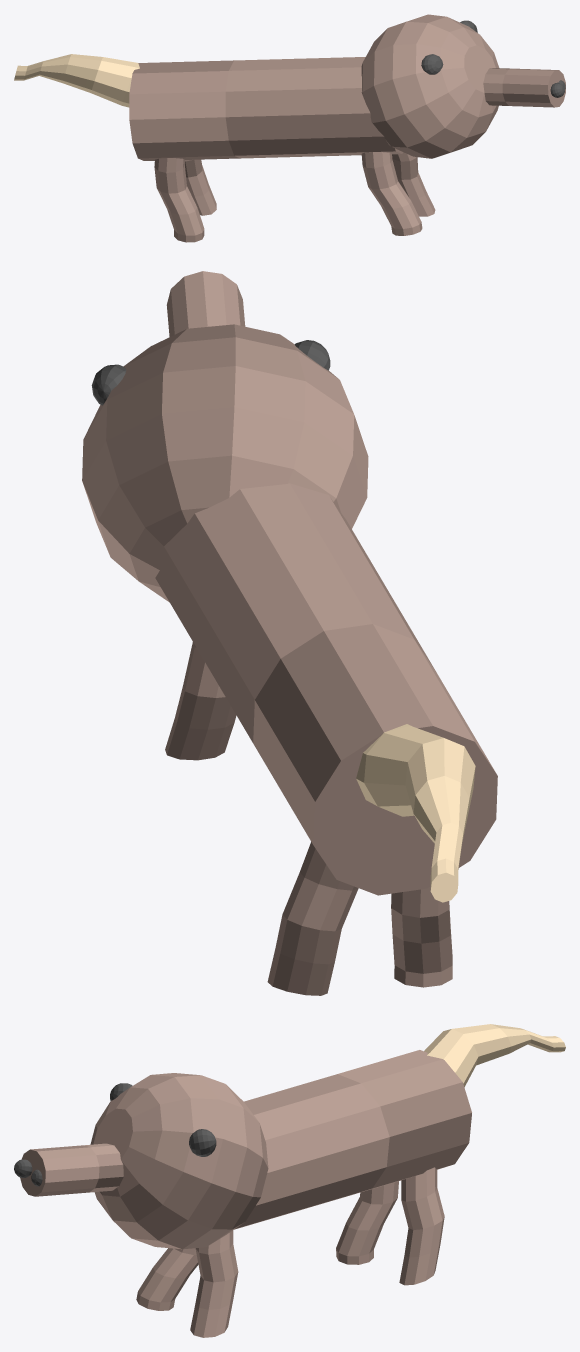
The model's file is mouse.fbx.
3 renders of one model, top to bottom at view 1: azimuth 30°, elevation 25°; view 2: azimuth 150°, elevation 25°; view 3: azimuth 270°, elevation 25°, orthographic. The views are drawn at different scales.
Visible parts, largest first — view 1: mesh633608042, mesh508835626, mesh1210358888, mesh326609196, mesh1837556272, mesh713477910, mesh1717952770, mesh1434467582, mesh1552173577; view 2: mesh633608042, mesh508835626, mesh1210358888, mesh1434467582, mesh713477910, mesh1717952770, mesh326609196; view 3: mesh633608042, mesh508835626, mesh326609196, mesh1434467582, mesh1210358888, mesh1717952770, mesh713477910, mesh1837556272, mesh1653012185.
Boxes of the visible parts, x1,y1,x2,y2 form: mesh633608042: (129, 57, 402, 160); mesh508835626: (361, 14, 499, 158); mesh1210358888: (14, 54, 139, 107); mesh326609196: (483, 68, 565, 107); mesh1837556272: (361, 152, 422, 235); mesh713477910: (154, 158, 204, 242); mesh1717952770: (392, 152, 435, 216); mesh1434467582: (185, 159, 216, 215); mesh1552173577: (421, 54, 443, 74); mesh633608042: (155, 483, 497, 895); mesh508835626: (82, 324, 368, 602); mesh1210358888: (356, 724, 475, 902); mesh1434467582: (267, 842, 358, 995); mesh713477910: (391, 886, 452, 987); mesh1717952770: (165, 642, 236, 760); mesh326609196: (166, 271, 245, 336); mesh633608042: (234, 1050, 471, 1229); mesh508835626: (90, 1073, 268, 1249); mesh326609196: (20, 1143, 123, 1196); mesh1434467582: (399, 1167, 444, 1285); mesh1210358888: (424, 1024, 565, 1087); mesh1717952770: (190, 1230, 238, 1337); mesh713477910: (336, 1181, 398, 1264); mesh1837556272: (136, 1248, 198, 1310); mesh1653012185: (189, 1129, 216, 1156).
Size of the model in its own units: 52.67 by 32.72 by 57.91.
